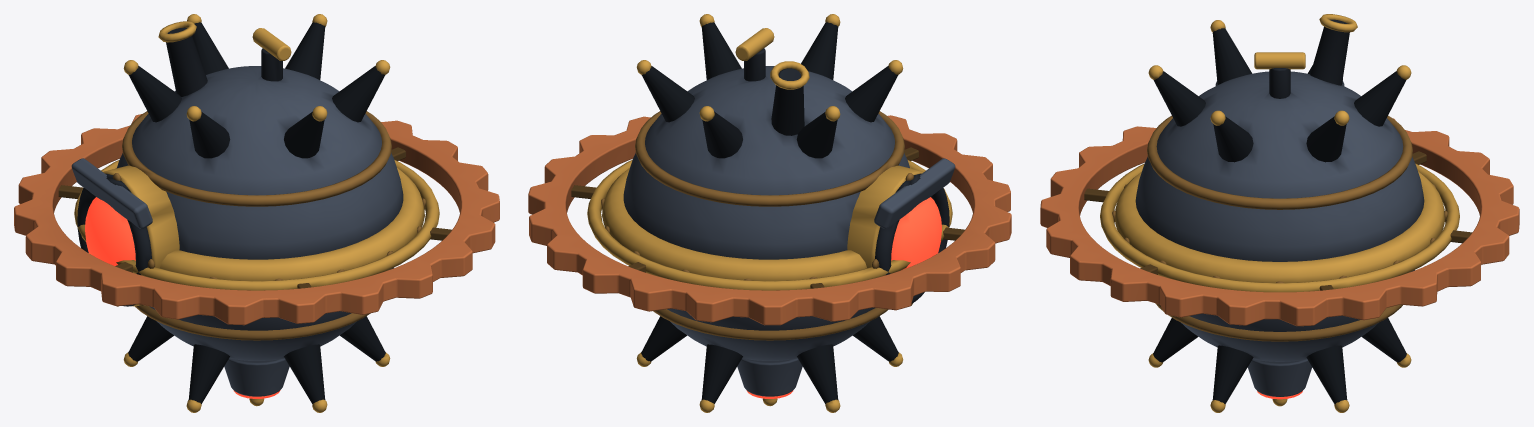
Rendered from sprocket.glb.
3 renders of one model, left to right at view 1: azimuth 30°, elevation 25°; view 2: azimuth 150°, elevation 25°; view 3: azimuth 270°, elevation 25°, orthographic.
Parts seen in each view (by area): view 1: Body, Ring, Eye; view 2: Body, Ring, Eye; view 3: Body, Ring.
Boxes of the visible parts, x1,y1,x2,y2 form: Body: (116,14,425,412); Ring: (14,114,499,325); Eye: (71,158,179,306); Body: (601,14,910,412); Ring: (528,115,1011,325); Eye: (847,158,955,305); Body: (1112,14,1447,412); Ring: (1040,118,1519,326).
Size of the model in its own units: 1.12 by 0.9443 by 1.12.
